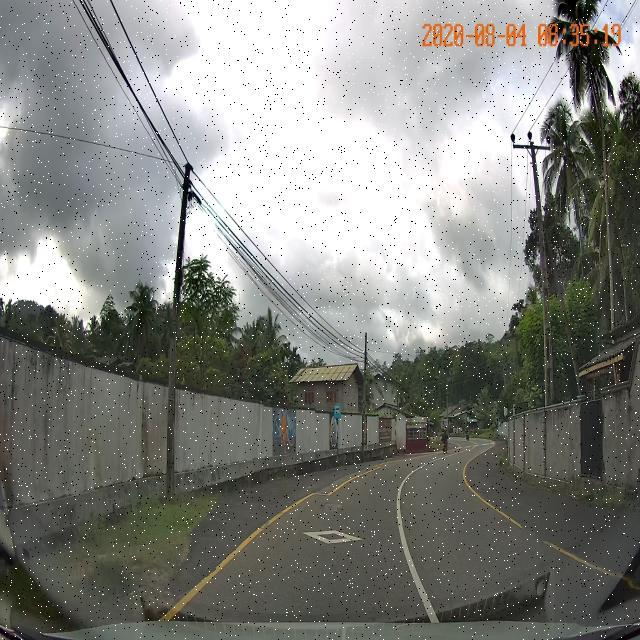diamond: (231, 513, 414, 565)
